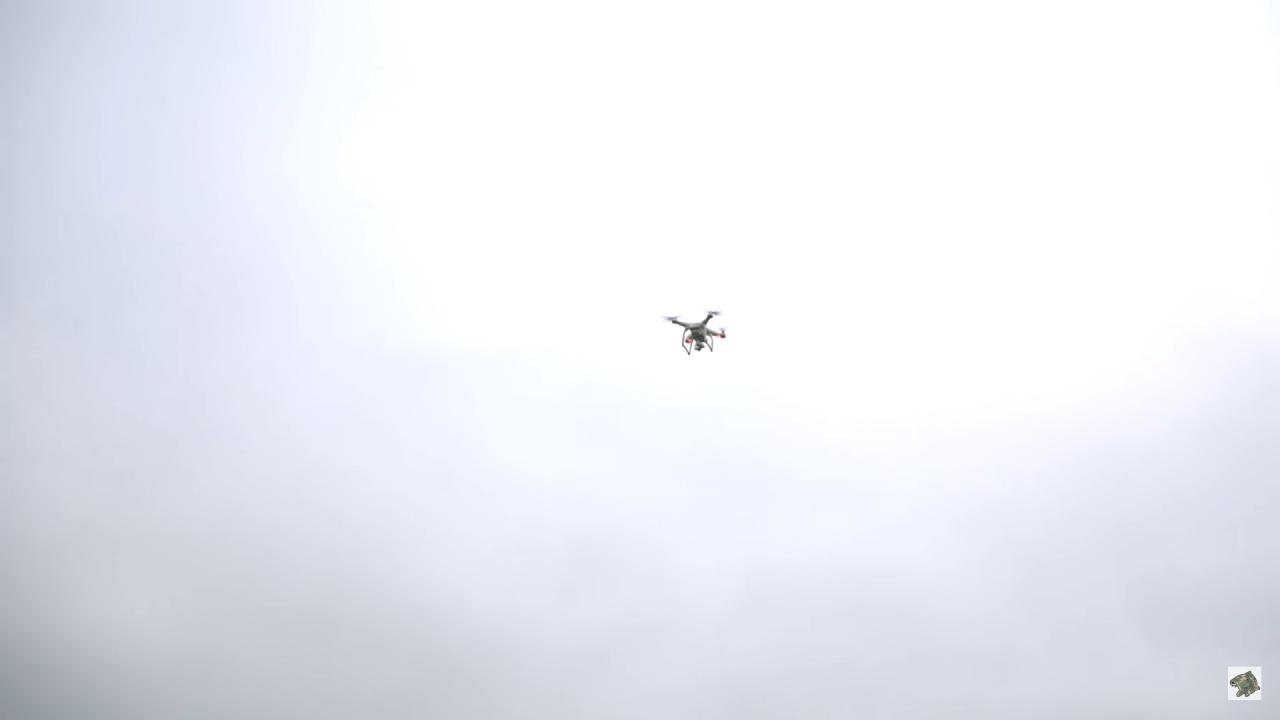Drone: (654, 298, 737, 365)
